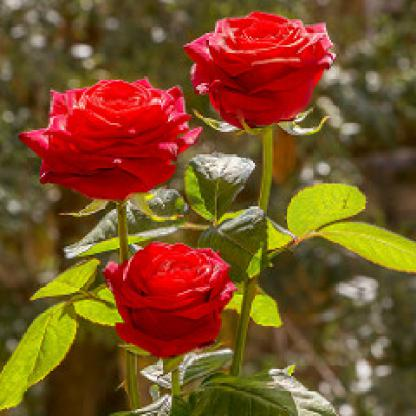ROSE-MAWAR: (10, 3, 336, 358)
